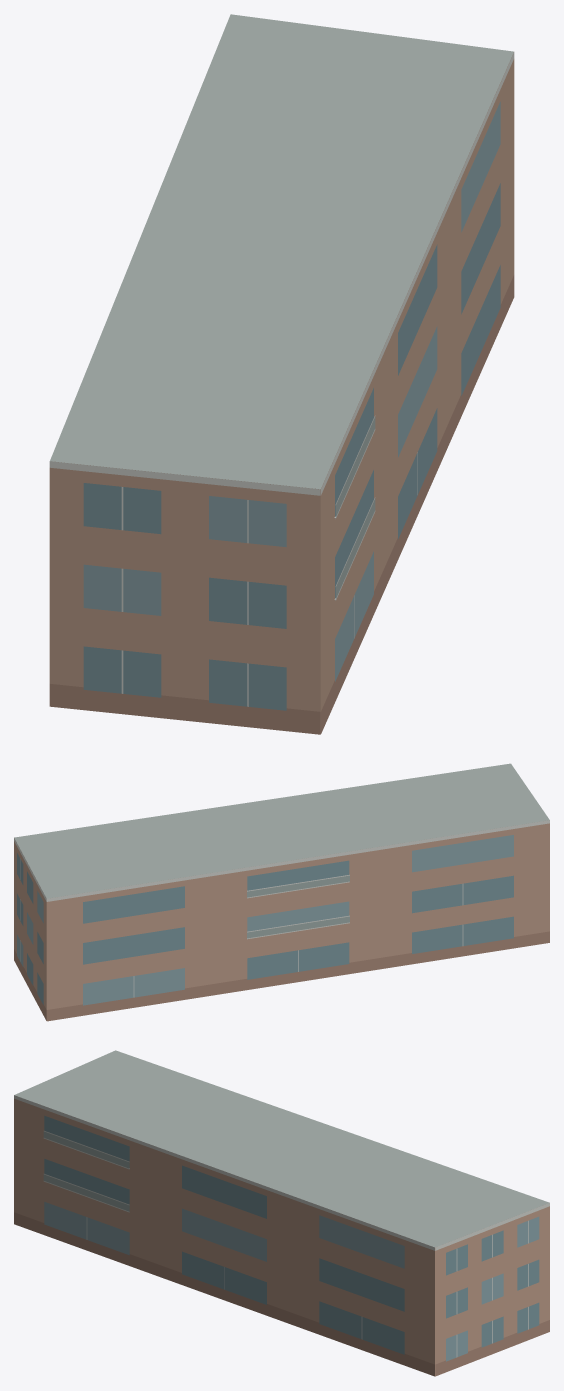
Rendered from survey-upis-33034467.glb.
3 renders of one model, top to bottom at view 1: azimuth 30°, elevation 25°; view 2: azimuth 150°, elevation 25°; view 3: azimuth 270°, elevation 25°, orthographic. The views are drawn at different scales.
Visible parts, largest first — view 1: survey-upis-33034467.tmp; view 2: survey-upis-33034467.tmp; view 3: survey-upis-33034467.tmp.
Boxes of the visible parts, <box> form: survey-upis-33034467.tmp: <box>49,14,514,734</box>; survey-upis-33034467.tmp: <box>14,763,549,1021</box>; survey-upis-33034467.tmp: <box>14,1050,549,1376</box>.
Size of the model in its own units: 29.98 by 9.15 by 34.43.
